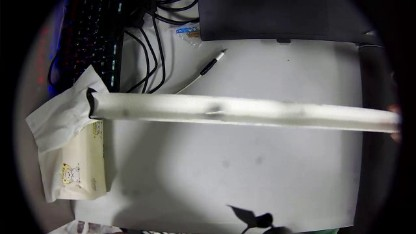gangzhu: (201, 101, 225, 120)
